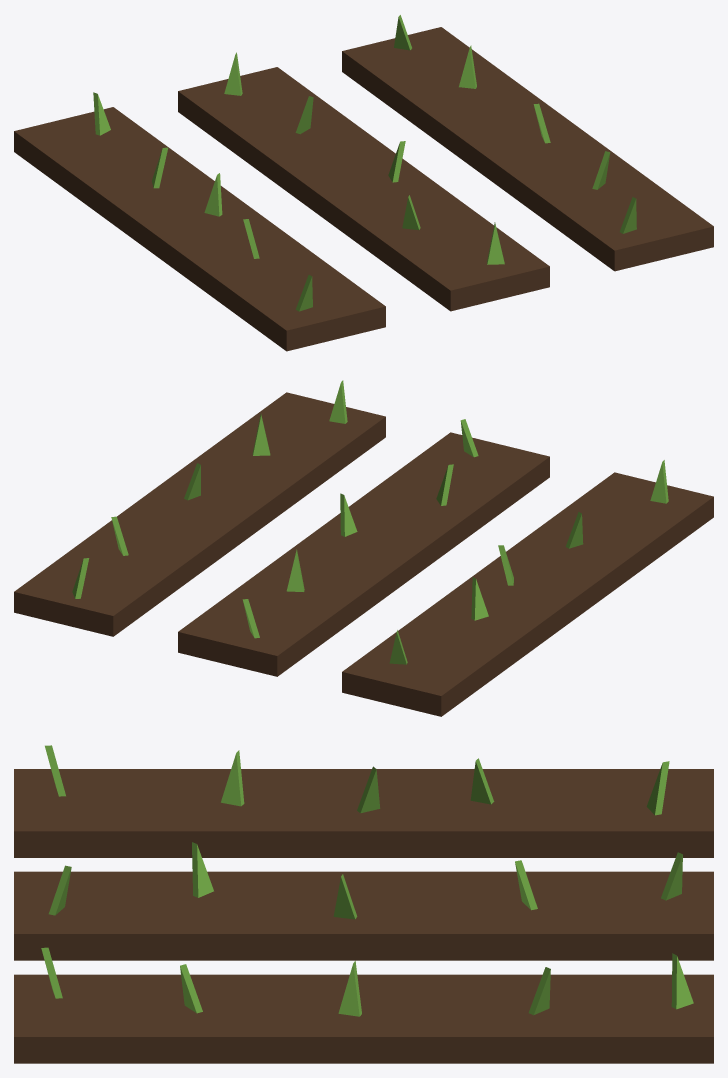
The model's file is crop_wheat_1.glb.
3 views of the same model, one above another, from view 1: azimuth 30°, elevation 25°; view 2: azimuth 150°, elevation 25°; view 3: azimuth 270°, elevation 25° (orthographic). The views are drawn at different scales.
Parts seen in each view (by area): view 1: crop_wheat_1; view 2: crop_wheat_1; view 3: crop_wheat_1.
Part boxes in pixels (x1=…): crop_wheat_1: x1=14, y1=15, x2=713, y2=351; crop_wheat_1: x1=14, y1=380, x2=713, y2=716; crop_wheat_1: x1=14, y1=745, x2=713, y2=1063.
Size of the model in its own units: 1.72 by 0.22 by 1.9.
